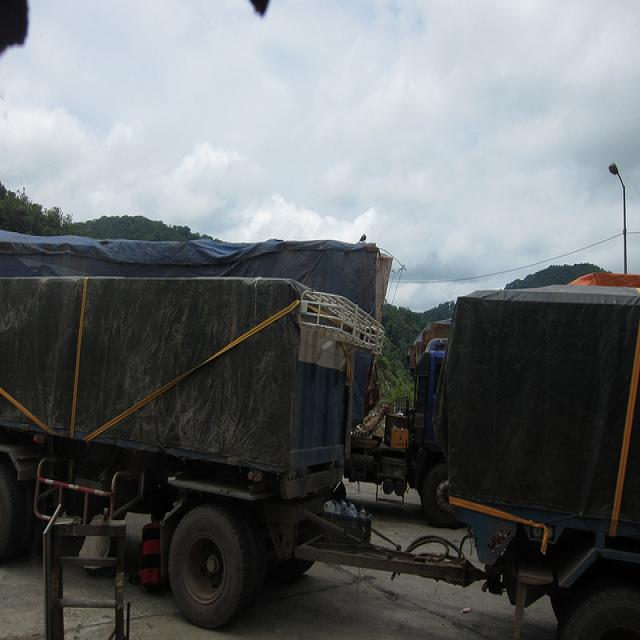Vehicle: (0, 275, 640, 640), (0, 228, 395, 323), (353, 317, 464, 538)
